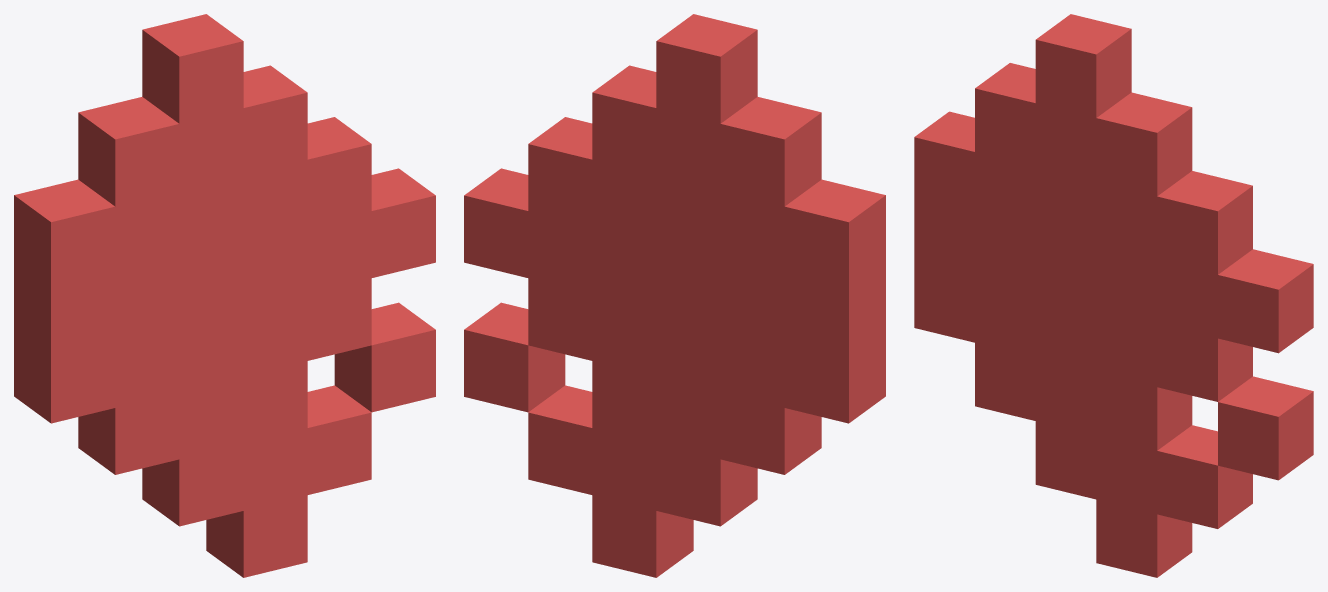
Rendered from Book-Spiritual-Pink.vox.obj.
3 views of the same model, side by side, from view 1: azimuth 30°, elevation 25°; view 2: azimuth 150°, elevation 25°; view 3: azimuth 330°, elevation 25° (orthographic). The views are drawn at different scales.
Size of the model in its own units: 0.6 by 0.8 by 0.1.
1 material, 1 textured.
